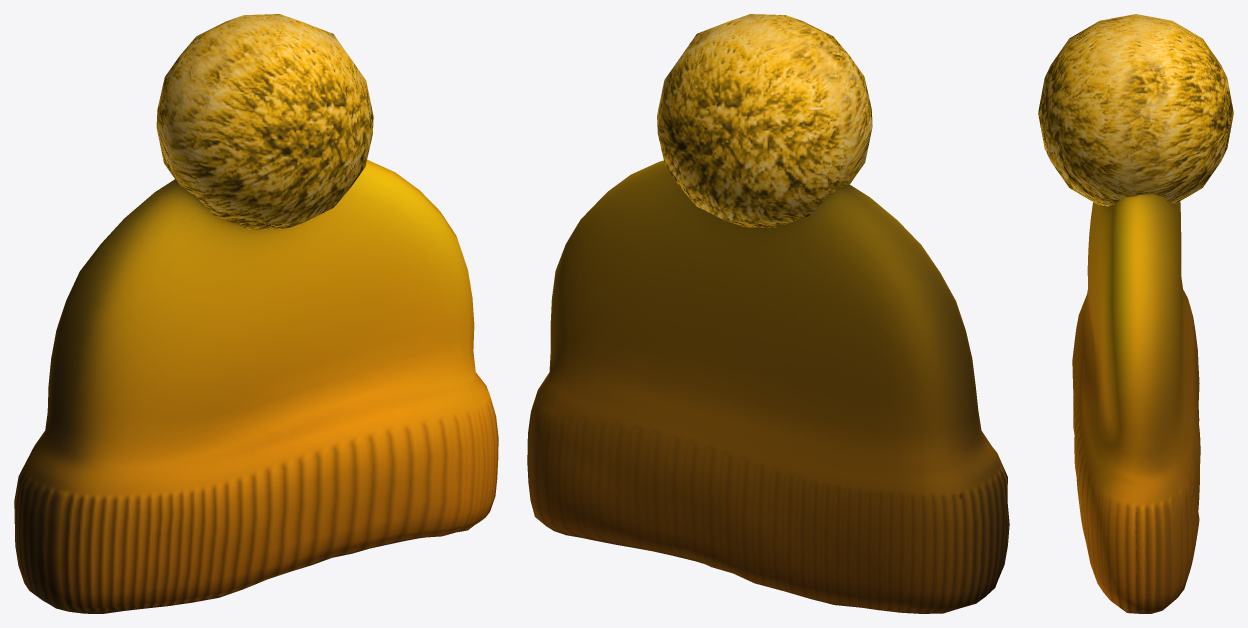
3 views of the same model, side by side, from view 1: azimuth 30°, elevation 25°; view 2: azimuth 150°, elevation 25°; view 3: azimuth 270°, elevation 25° (orthographic). The views are drawn at different scales.
Parts seen in each view (by area): view 1: hat_bottom_01_low001; view 2: hat_bottom_01_low001; view 3: hat_bottom_01_low001.
Part boxes in pixels (x1,y1,x2,y2): hat_bottom_01_low001: (14,14,498,613); hat_bottom_01_low001: (527,14,1009,613); hat_bottom_01_low001: (1038,14,1233,613).
Size of the model in its own units: 1.45 by 1.62 by 0.5781.
Materials: 1 (1 with a texture image).
